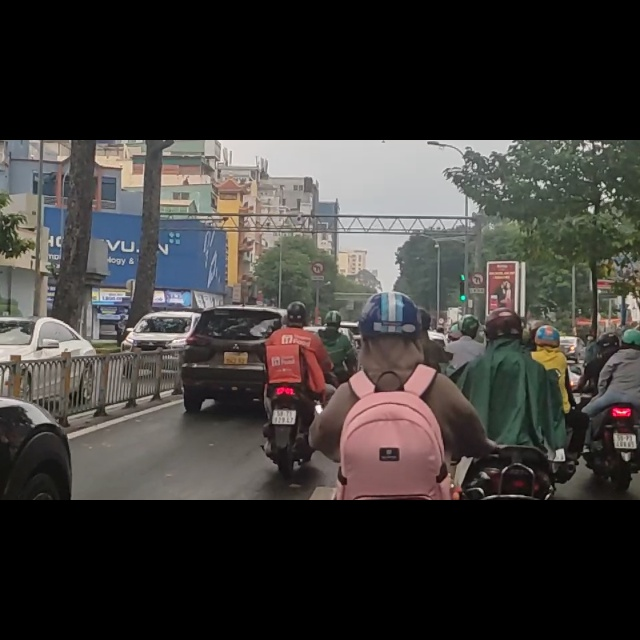bien_cam: (311, 216, 325, 238), (471, 237, 484, 260)
